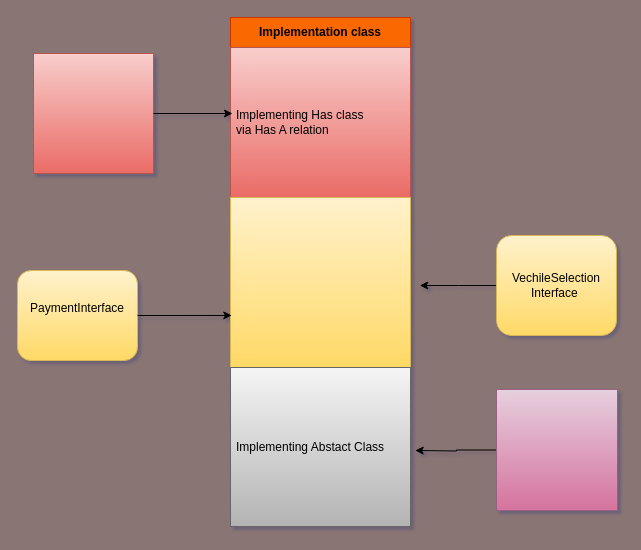
Image size: 641x550. Some labels were removed from this diagram. The centre of each missing label's shape, as x and y in pixels:
Abstarct class: the point at 557,449
Has Class (for Has A Relation): the point at 93,113
Implementing PaymentInterface Implementing VechileSelection: the point at 320,282
